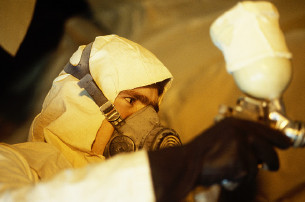face_mask: (110, 89, 181, 160)
